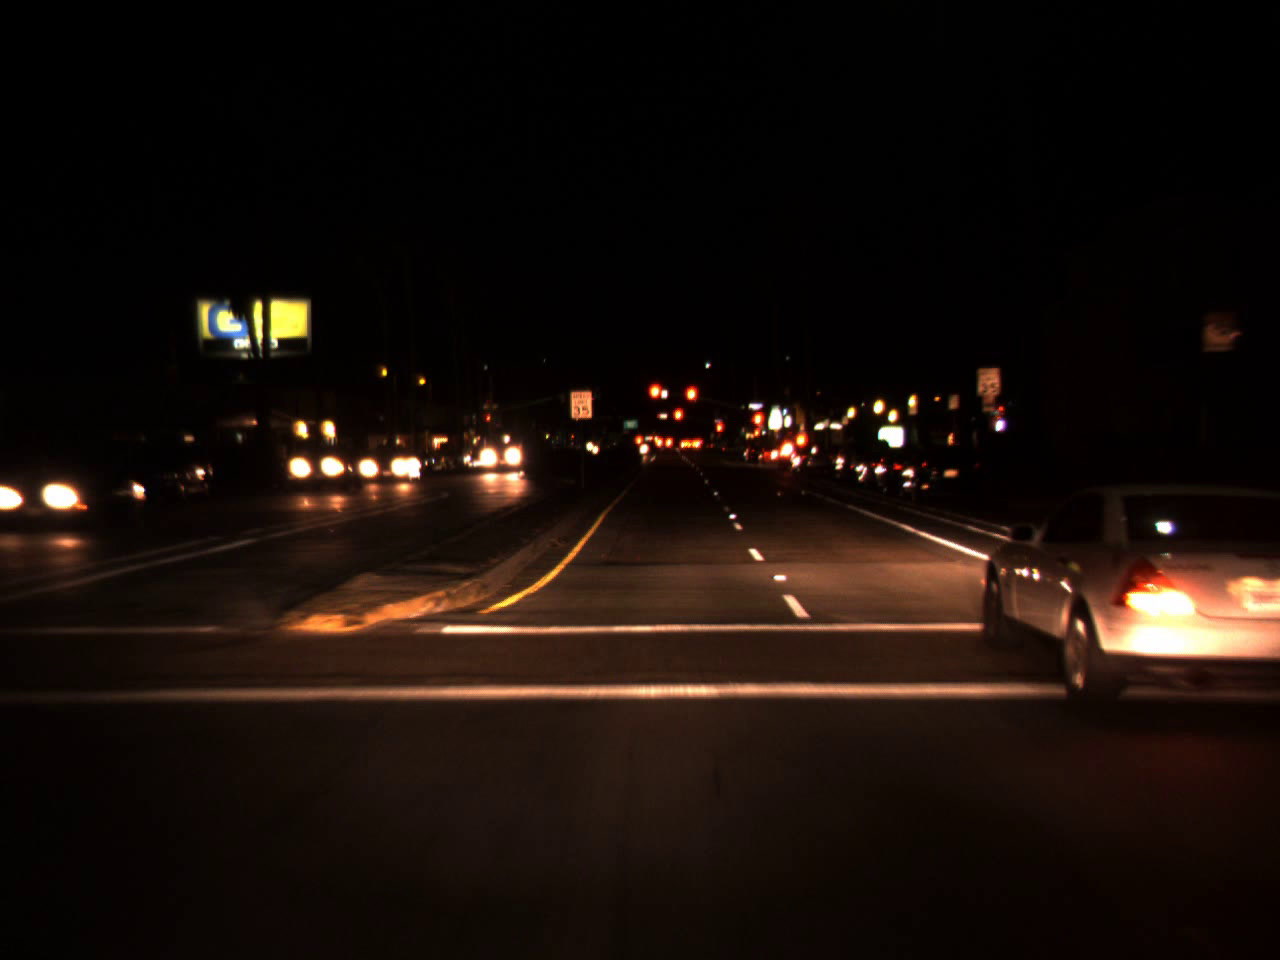stop: (749, 408, 767, 448), (647, 380, 665, 417), (684, 383, 699, 418), (671, 405, 684, 437), (715, 419, 724, 446), (485, 415, 491, 425)
